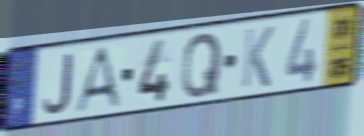4: (284, 15, 320, 87), (136, 36, 172, 105)
A: (73, 44, 123, 116)
J: (41, 51, 74, 116)
K: (239, 24, 276, 91)
Q: (179, 30, 224, 102)
